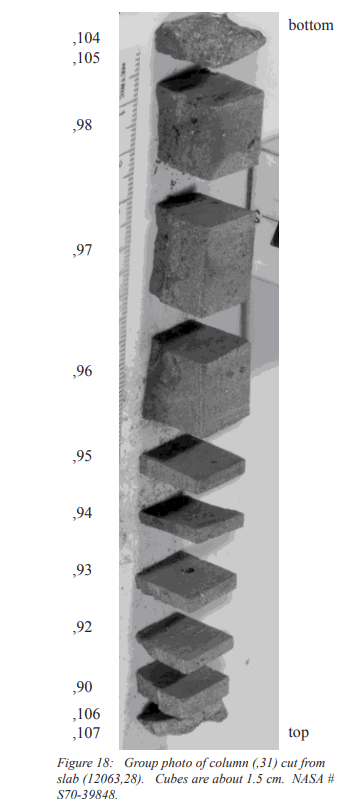Basalt: (112, 195, 276, 310), (117, 326, 280, 434), (116, 73, 274, 174), (117, 11, 279, 72), (116, 11, 279, 62), (119, 445, 271, 495), (120, 682, 268, 731), (120, 501, 271, 545), (114, 564, 281, 603), (117, 616, 257, 660), (120, 445, 271, 478)
